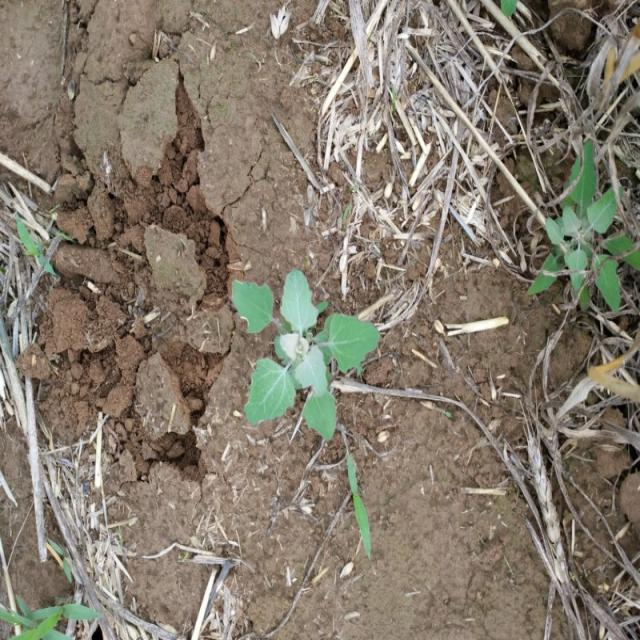goosefoots: (206, 269, 382, 446)
